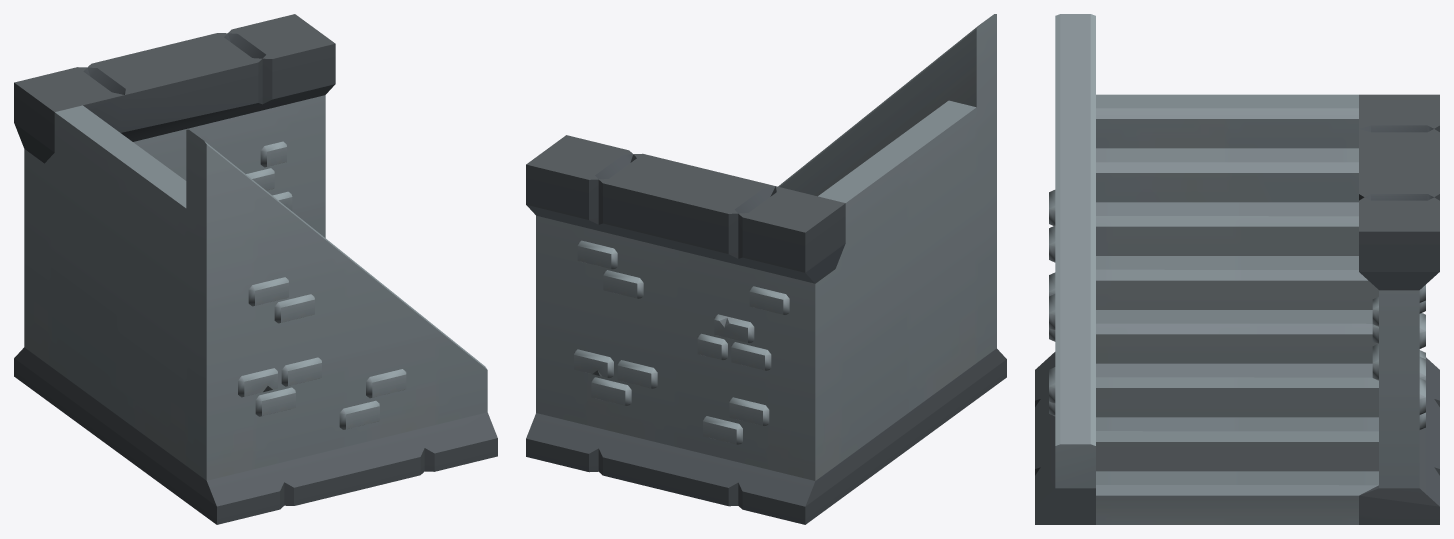
The model's file is kaykit-dungeon-remastered-stairs-wall-left-gltf.glb.
3 views of the same model, side by side, from view 1: azimuth 30°, elevation 25°; view 2: azimuth 150°, elevation 25°; view 3: azimuth 270°, elevation 25° (orthographic).
Visible parts, largest first — view 1: stairs_wall_left; view 2: stairs_wall_left; view 3: stairs_wall_left.
Part boxes in pixels (x1,y1,x2,y2): stairs_wall_left: (14, 14, 497, 524); stairs_wall_left: (526, 14, 1006, 524); stairs_wall_left: (1035, 14, 1439, 524).
Size of the model in its own units: 4 by 5.1 by 5.
Materials: 1 (1 with a texture image).
